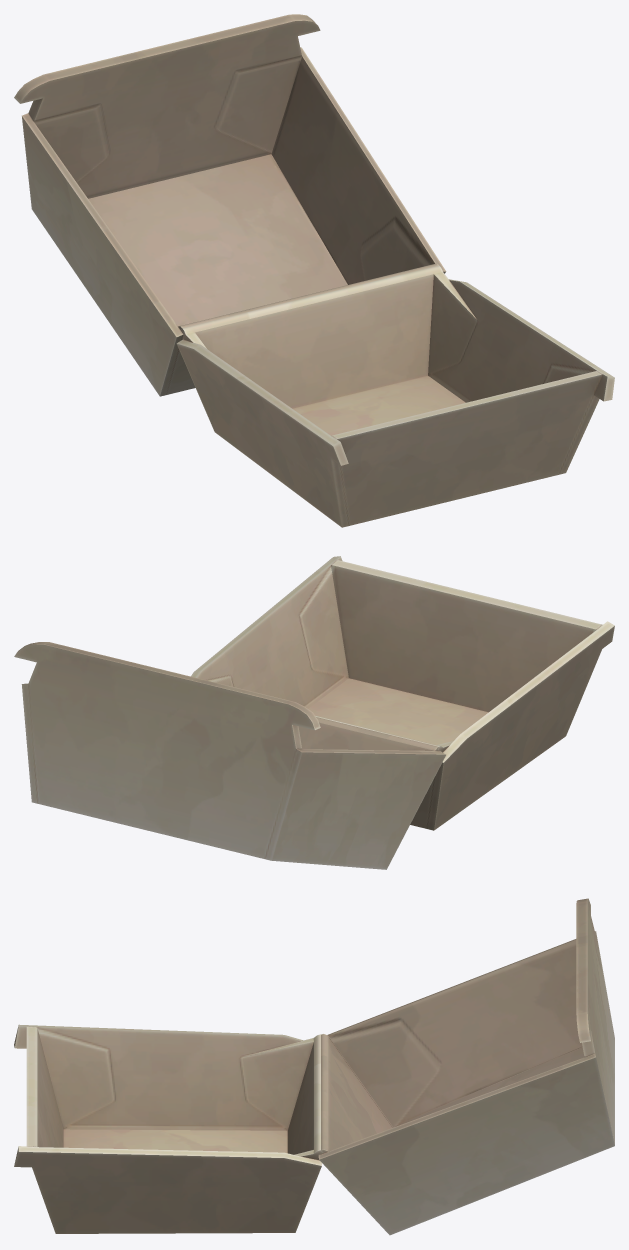
Rendered from SM_BurgerBoxOpen.glb.
The picture shows the model from 3 angles, top to bottom: view 1: azimuth 30°, elevation 25°; view 2: azimuth 150°, elevation 25°; view 3: azimuth 270°, elevation 25°; orthographic projection. The views are drawn at different scales.
Visible parts, largest first — view 1: SM_BurgerBoxOpen; view 2: SM_BurgerBoxOpen; view 3: SM_BurgerBoxOpen.
Boxes of the visible parts, <box> form: SM_BurgerBoxOpen: <box>14,14,614,527</box>; SM_BurgerBoxOpen: <box>14,556,614,869</box>; SM_BurgerBoxOpen: <box>14,898,614,1235</box>.
Size of the model in its own units: 0.2472 by 0.1932 by 0.4627.
1 material, 1 textured.
